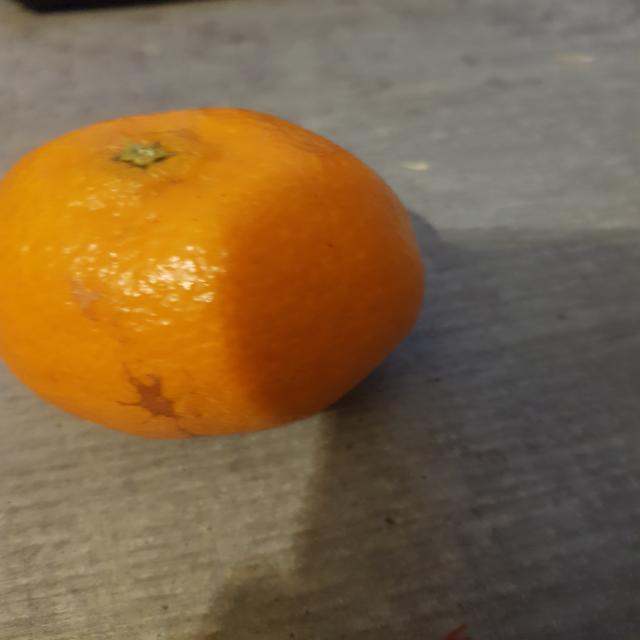Orange: (0, 107, 426, 442)
